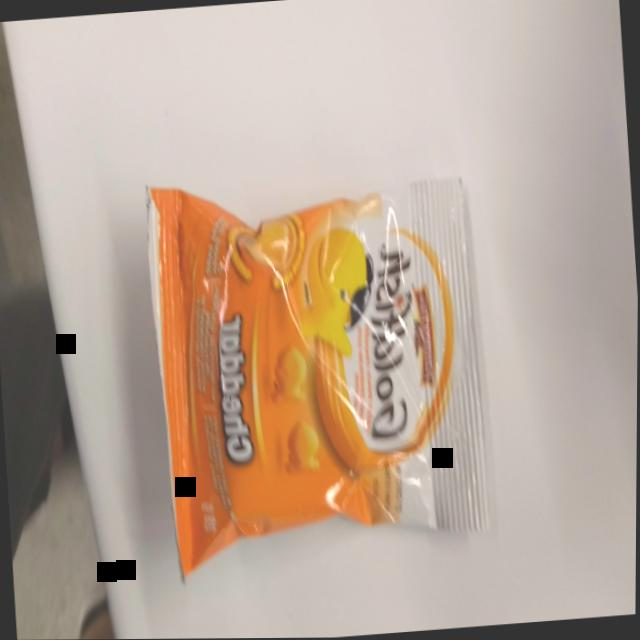crackers: (139, 152, 503, 598)
